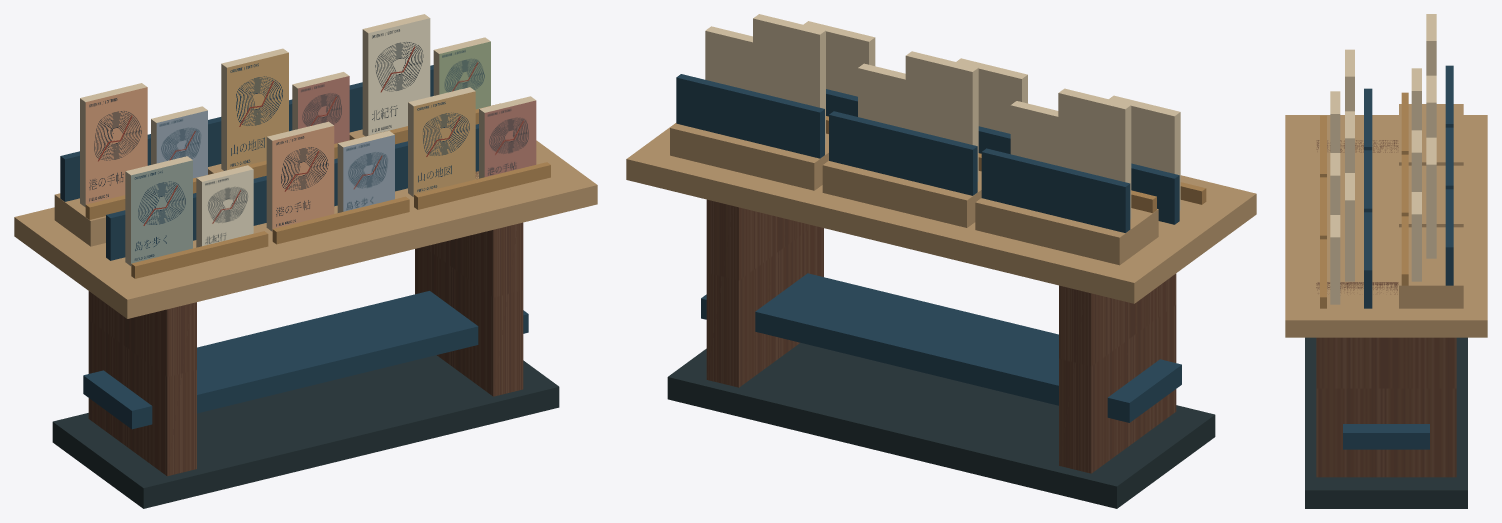
Rendered from orienne_field_island.glb.
The picture shows the model from 3 angles, left to right: view 1: azimuth 30°, elevation 25°; view 2: azimuth 150°, elevation 25°; view 3: azimuth 270°, elevation 25°; orthographic projection. The views are drawn at different scales.
Bounding box in the file's own units: 1.73 × 1.25 × 0.72.
Materials: 1 (1 with a texture image).
